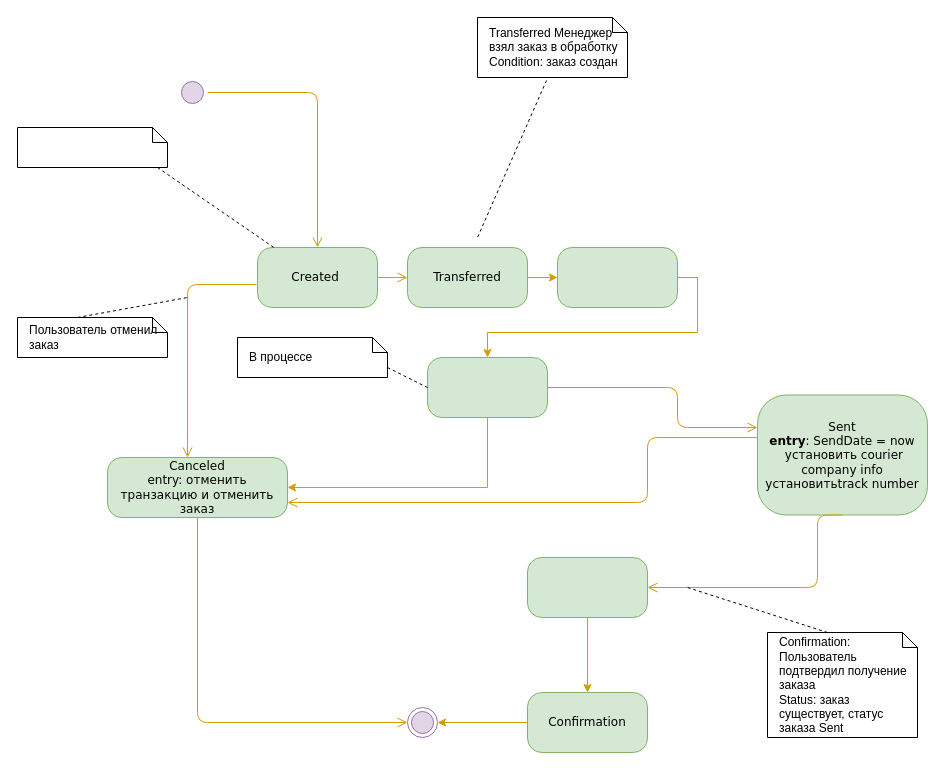
Some shapes in this 945 by 770 pixel diagram are drawn without their labels. Each missing label, with the centre of its shape:
Closed exit: отправить уведомление о доставке: the point at 587,587
Condition: the point at 617,277
InProgress: the point at 487,387
Пользователь оформили заказ: the point at 92,147
